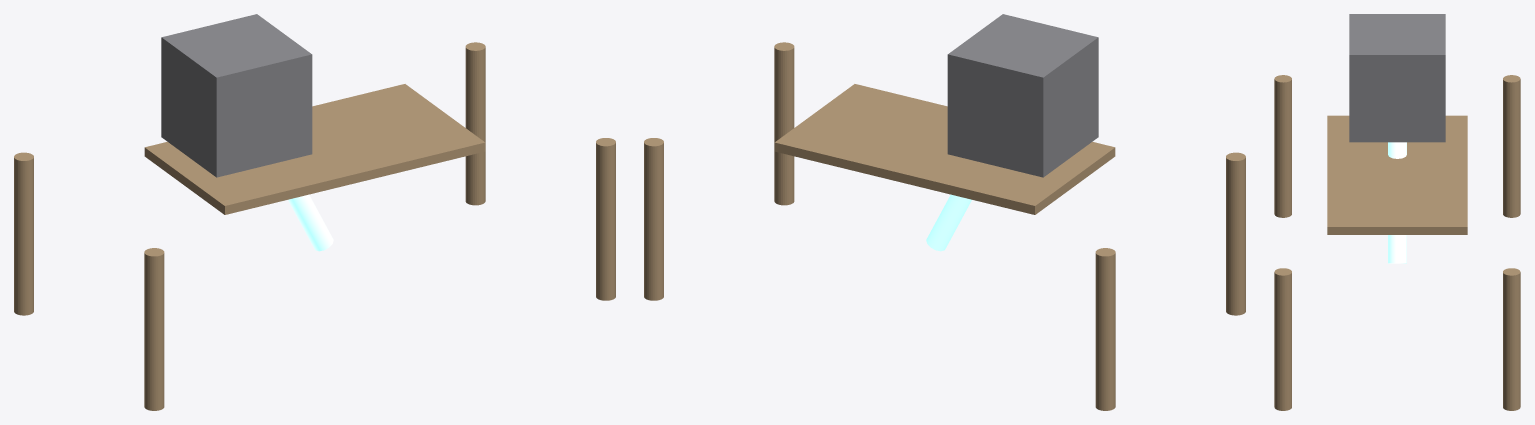
Rendered from pour_stream.glb.
3 renders of one model, left to right at view 1: azimuth 30°, elevation 25°; view 2: azimuth 150°, elevation 25°; view 3: azimuth 270°, elevation 25°, orthographic. The views are drawn at different scales.
Parts seen in each view (by area): view 1: crucible, bench_top, bench_leg_-1.3_-0.65, bench_leg_-1.3_0.65, bench_leg_1.3_-0.65, bench_leg_1.3_0.65, pour_stream; view 2: crucible, bench_top, bench_leg_-1.3_0.65, bench_leg_-1.3_-0.65, bench_leg_1.3_0.65, bench_leg_1.3_-0.65, pour_stream; view 3: bench_top, crucible, bench_leg_1.3_0.65, bench_leg_1.3_-0.65, bench_leg_-1.3_0.65, bench_leg_-1.3_-0.65, pour_stream.
Boxes of the visible parts, x1,y1,x2,y2 form: crucible: (161,14,312,177); bench_top: (144,84,485,214); bench_leg_-1.3_-0.65: (144,248,164,410); bench_leg_-1.3_0.65: (14,152,33,315); bench_leg_1.3_-0.65: (596,138,615,300); bench_leg_1.3_0.65: (465,42,485,205); pour_stream: (288,194,333,251); crucible: (947,14,1098,177); bench_top: (774,84,1115,214); bench_leg_-1.3_0.65: (1095,248,1115,410); bench_leg_-1.3_-0.65: (1226,152,1245,315); bench_leg_1.3_0.65: (644,138,663,300); bench_leg_1.3_-0.65: (774,42,794,205); pour_stream: (926,194,971,251); bench_top: (1327,115,1467,234); crucible: (1349,14,1445,142); bench_leg_1.3_0.65: (1503,268,1520,410); bench_leg_1.3_-0.65: (1274,268,1291,410); bench_leg_-1.3_0.65: (1503,75,1520,217); bench_leg_-1.3_-0.65: (1274,75,1291,217); pour_stream: (1388,142,1406,263).
Bounding box in the file's own units: 2.7 × 1.53 × 1.4.
